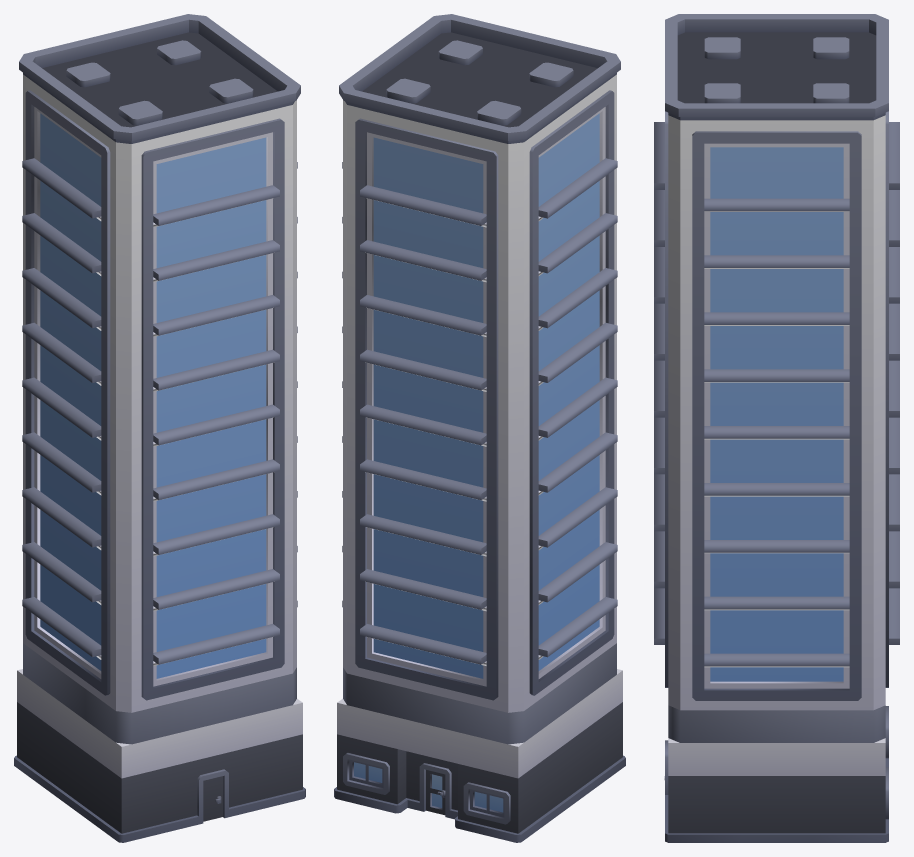
Rendered from building_skyscraper_b.glb.
3 views of the same model, side by side, from view 1: azimuth 30°, elevation 25°; view 2: azimuth 150°, elevation 25°; view 3: azimuth 270°, elevation 25° (orthographic). The views are drawn at different scales.
Parts seen in each view (by area): view 1: building-skyscraper-b; view 2: building-skyscraper-b; view 3: building-skyscraper-b.
Boxes of the visible parts, x1,y1,x2,y2 form: building-skyscraper-b: [14, 14, 305, 842]; building-skyscraper-b: [334, 14, 625, 842]; building-skyscraper-b: [654, 14, 899, 842].
Bounding box in the file's own units: 1.36 × 4.48 × 1.36.
Materials: 1 (1 with a texture image).
